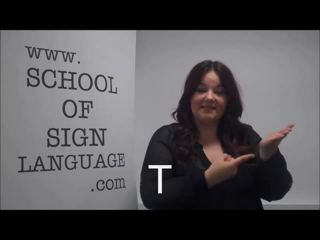T: (200, 118, 299, 189)
